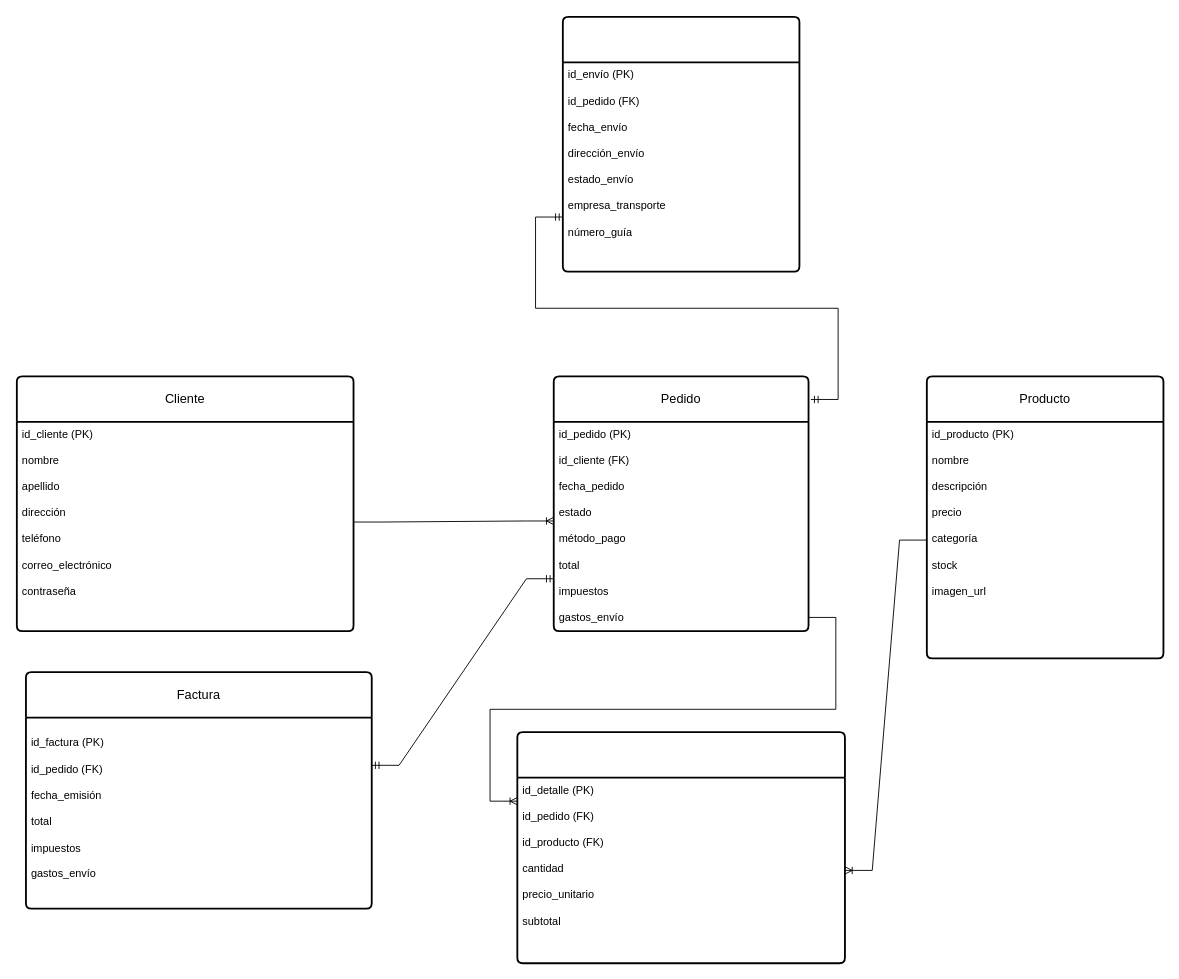
Some shapes in this 1179 by 979 pixel diagram are drawn without their labels. Here are the shapes that lost their labels. From the top down, the box of each, then its label:
(561, 15, 800, 272): Envio
(516, 731, 845, 964): Detalle del Pedido
